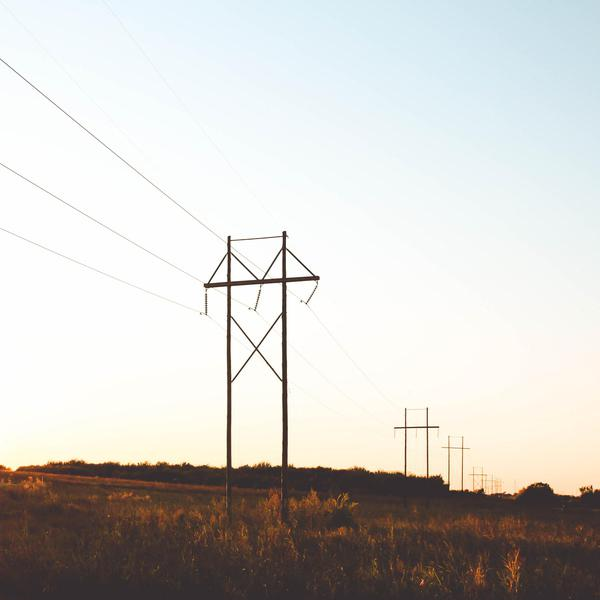utility_pole: (193, 218, 329, 349)
